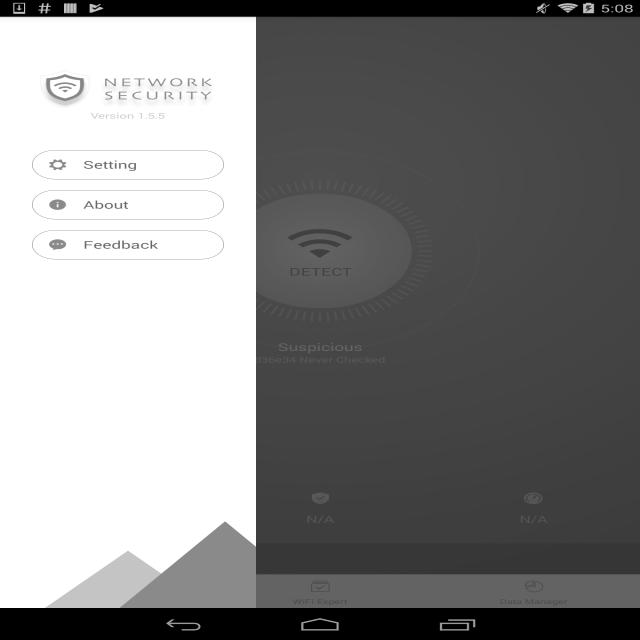ImageButton: (4, 23, 51, 50)
ImageView: (40, 70, 216, 109), (287, 223, 353, 264), (22, 556, 56, 577)
RadioButton: (426, 574, 640, 608), (0, 574, 213, 608), (213, 575, 427, 608)
TextView: (0, 340, 640, 354), (426, 487, 640, 526), (0, 487, 213, 526), (213, 488, 427, 526), (77, 552, 640, 565), (0, 354, 640, 365), (32, 150, 224, 179), (32, 190, 224, 219), (32, 230, 224, 259), (62, 28, 225, 46), (77, 570, 295, 582), (288, 264, 352, 279), (91, 110, 165, 121)
